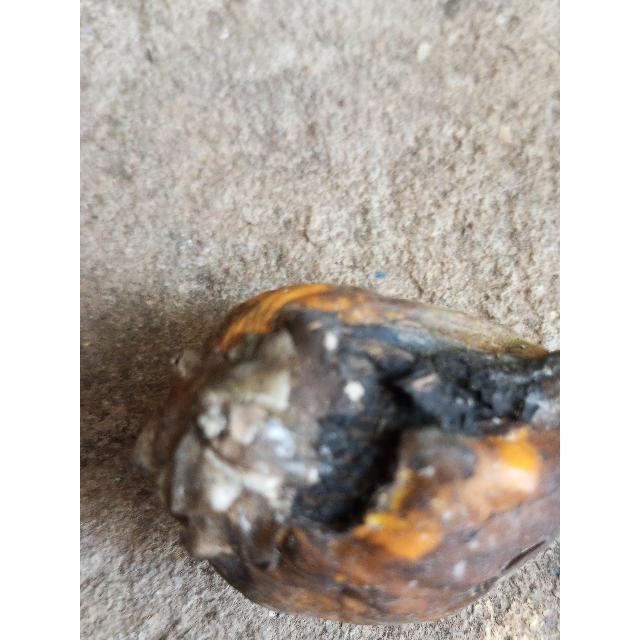damaged: (142, 283, 560, 628)
